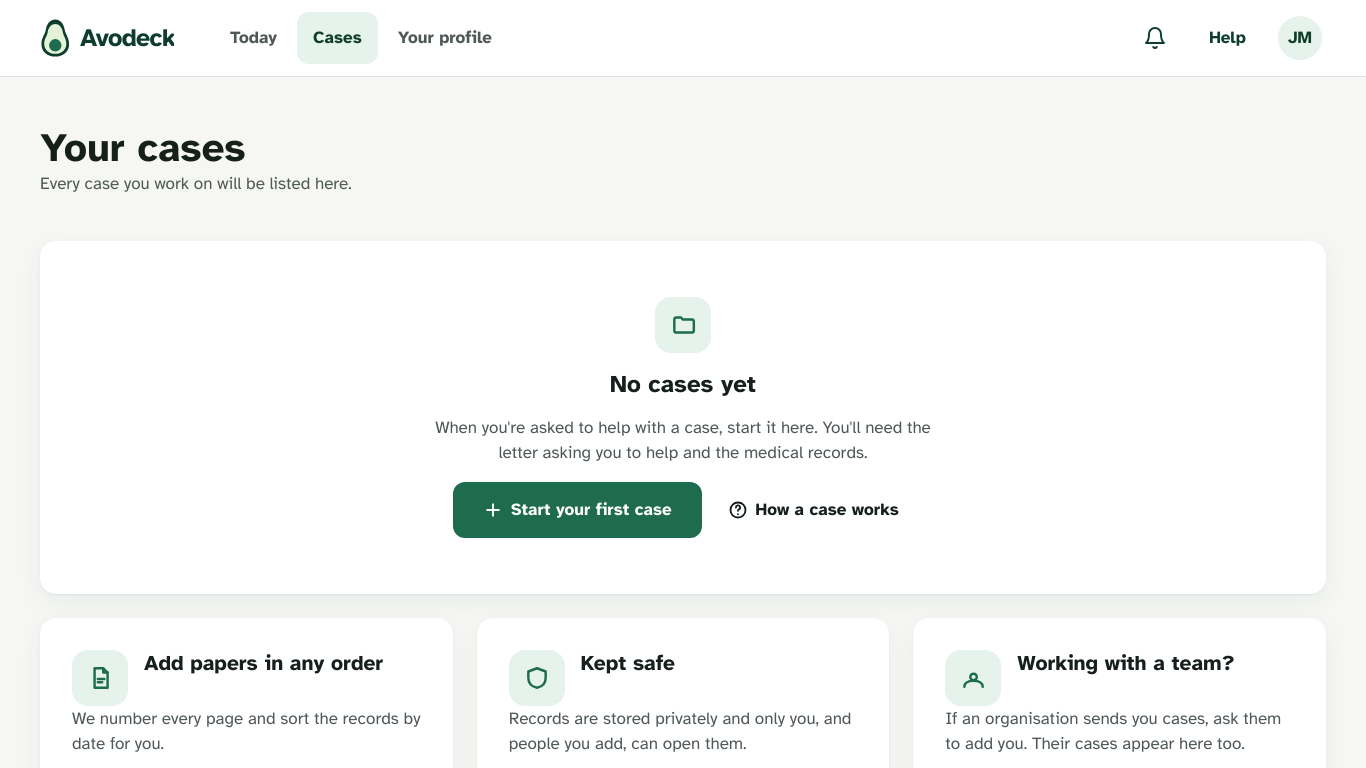
Test: exactly one step shows at a time and Next and Back move one step
The image size is (1366, 768).
Click the button "How a case works" at (813, 510), box [714,484,913,536]
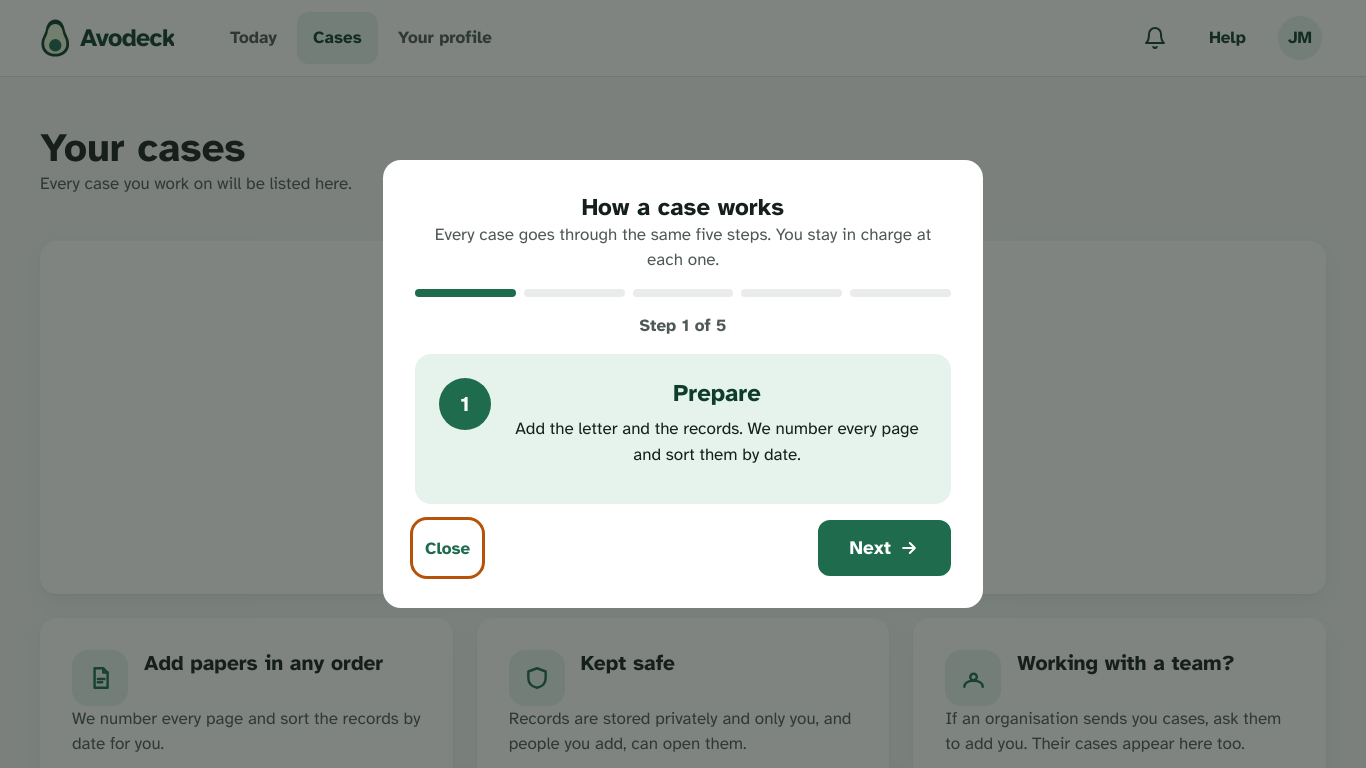
expect the button "Back" is not shown: met
Click the button "Next" at (884, 548), box [818,520,951,576]
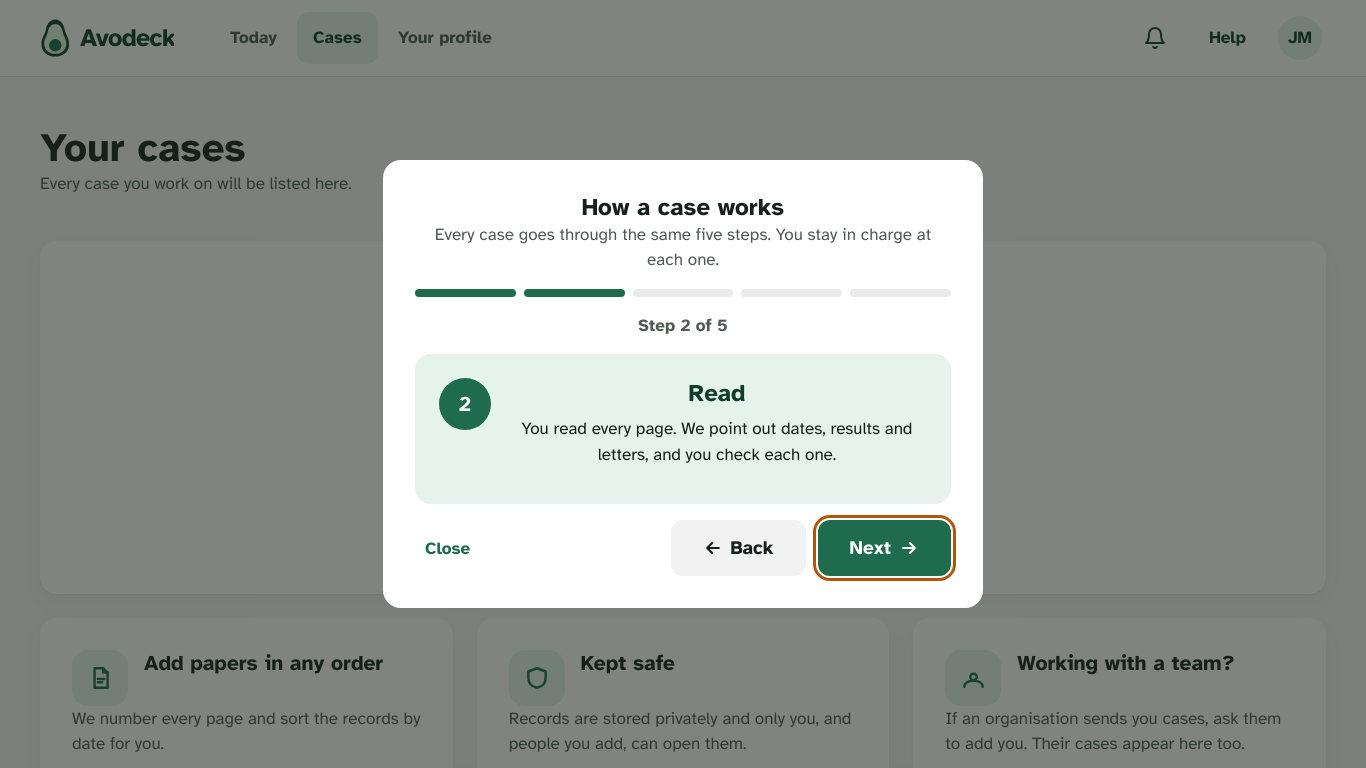
expect the text "Step 2 of 5" is shown: met, box [638,315,728,336]
expect the heading "Read" is shown: met, box [689,378,746,408]
expect the heading "Prepare" is gone: met
Click the button "Back" at (738, 548), box [671,520,806,576]
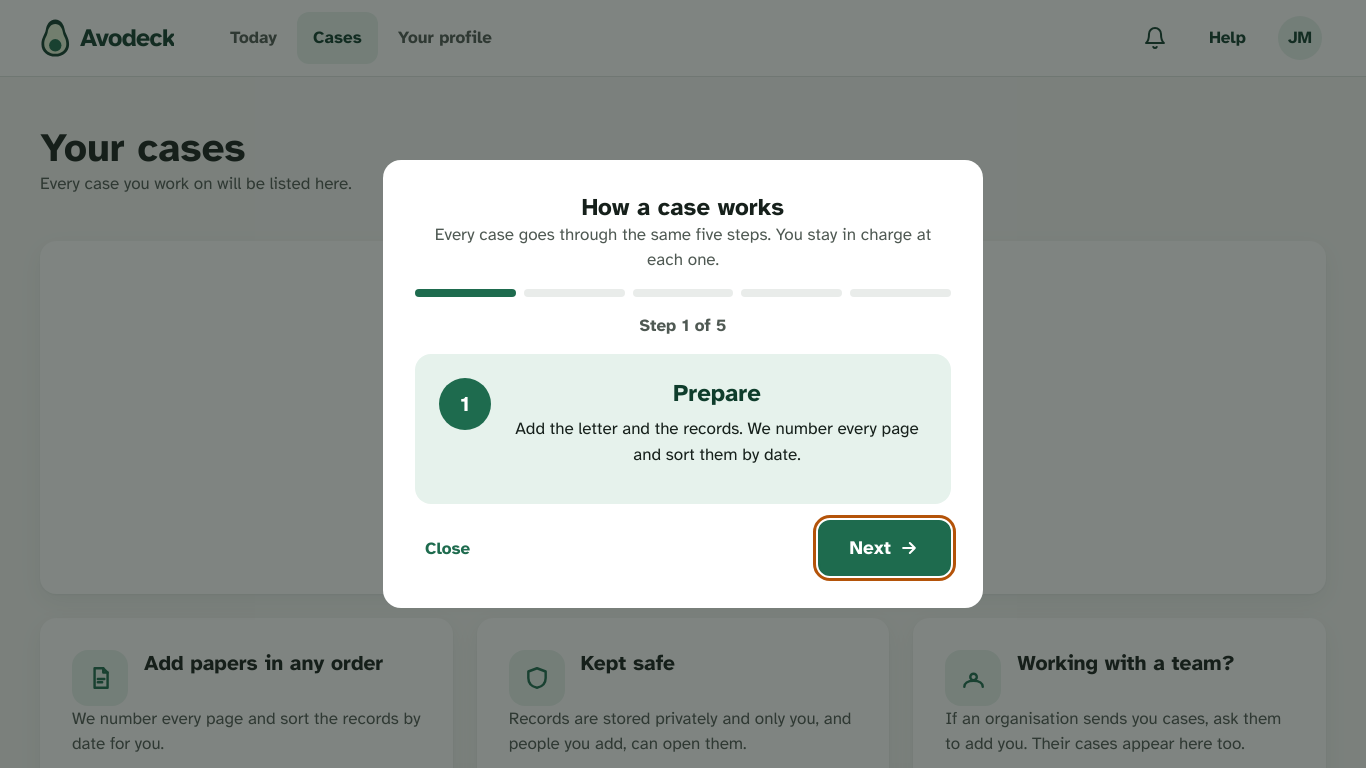
expect the heading "Prepare" is shown: met, box [673,378,761,408]
